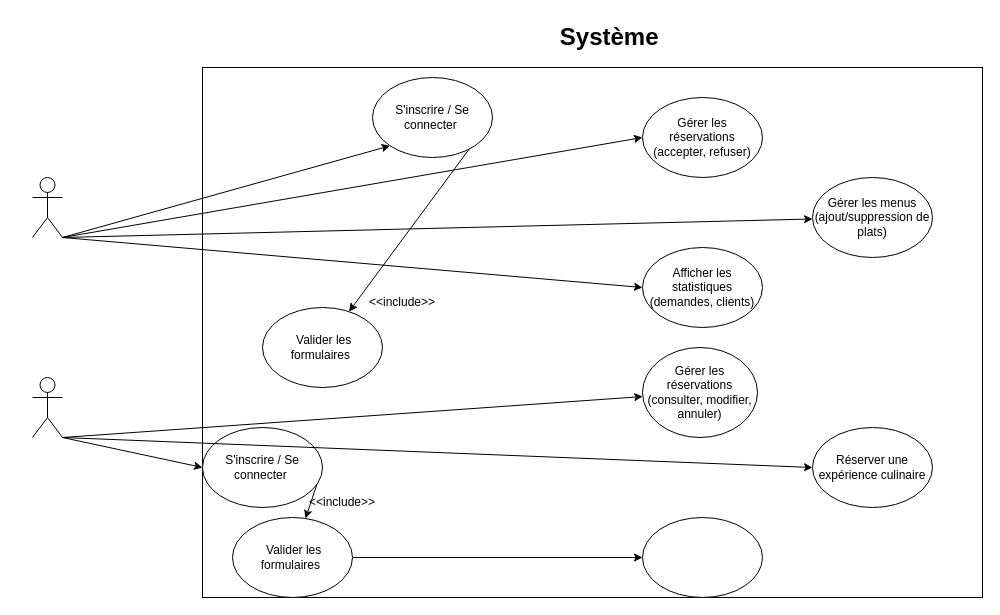
The diagram is 1000 pixels wide and 615 high, and some of its shapes have lost their labels. Each missing label, with the centre of its shape:
"Chaf" belongs at (x=47, y=207).
"Consulter les menus" belongs at (x=702, y=557).
"Utilisateur" belongs at (x=47, y=407).
